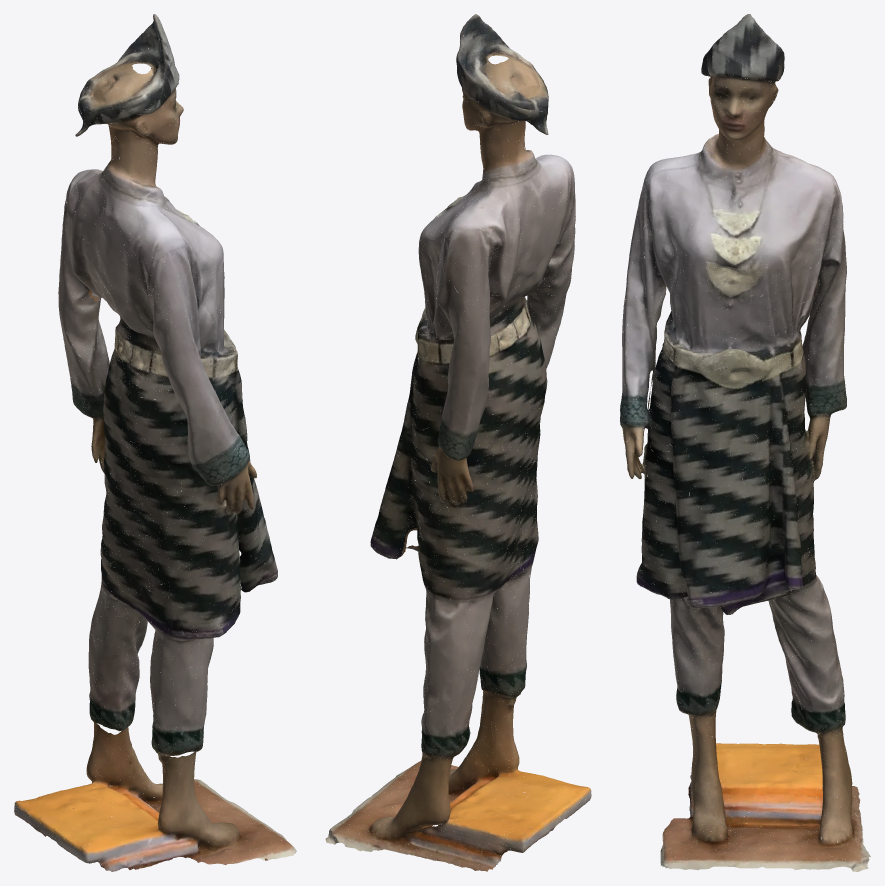
The model's file is pakaian-melayu-laki.glb.
3 renders of one model, left to right at view 1: azimuth 30°, elevation 25°; view 2: azimuth 150°, elevation 25°; view 3: azimuth 270°, elevation 25°, orthographic. The views are drawn at different scales.
Parts seen in each view (by area): view 1: Object_4, Object_5, Object_6, Object_9, Object_8, Object_13, Object_7, Object_12, Object_11, Object_10, Object_14, Object_15 (+22 smaller); view 2: Object_5, Object_4, Object_8, Object_7, Object_10, Object_6, Object_11, Object_14, Object_9, Object_12, Object_15, Object_13 (+22 smaller); view 3: Object_4, Object_5, Object_9, Object_11, Object_7, Object_15, Object_10, Object_12, Object_13, Object_14, Object_8, Object_6 (+23 smaller).
Boxes of the visible parts, x1,y1,x2,y2 form: Object_4: (35,27,271,861); Object_5: (20,21,278,869); Object_6: (35,31,240,847); Object_9: (37,14,272,871); Object_8: (14,25,273,854); Object_13: (25,15,276,861); Object_7: (58,23,263,864); Object_12: (16,19,295,862); Object_11: (27,78,271,862); Object_10: (32,30,282,855); Object_14: (58,30,277,867); Object_15: (35,14,290,860); Object_5: (335,18,586,861); Object_4: (337,41,591,855); Object_8: (344,19,588,867); Object_7: (366,34,575,863); Object_10: (393,42,574,870); Object_6: (379,22,574,845); Object_11: (327,71,574,851); Object_14: (352,39,574,862); Object_9: (370,14,582,843); Object_12: (361,30,589,851); Object_15: (341,27,586,864); Object_13: (349,45,578,864); Object_4: (620,22,852,869); Object_5: (620,30,870,870); Object_9: (621,97,846,868); Object_11: (625,54,863,871); Object_7: (622,23,859,862); Object_15: (623,14,862,860); Object_10: (636,52,858,856); Object_12: (621,17,843,869); Object_13: (624,15,859,869); Object_14: (623,25,868,853); Object_8: (622,38,858,859); Object_6: (622,51,846,830).
Bounding box in the file's own units: 0.7582 × 3.02 × 0.8451.
Materials: 36 (36 with a texture image).
